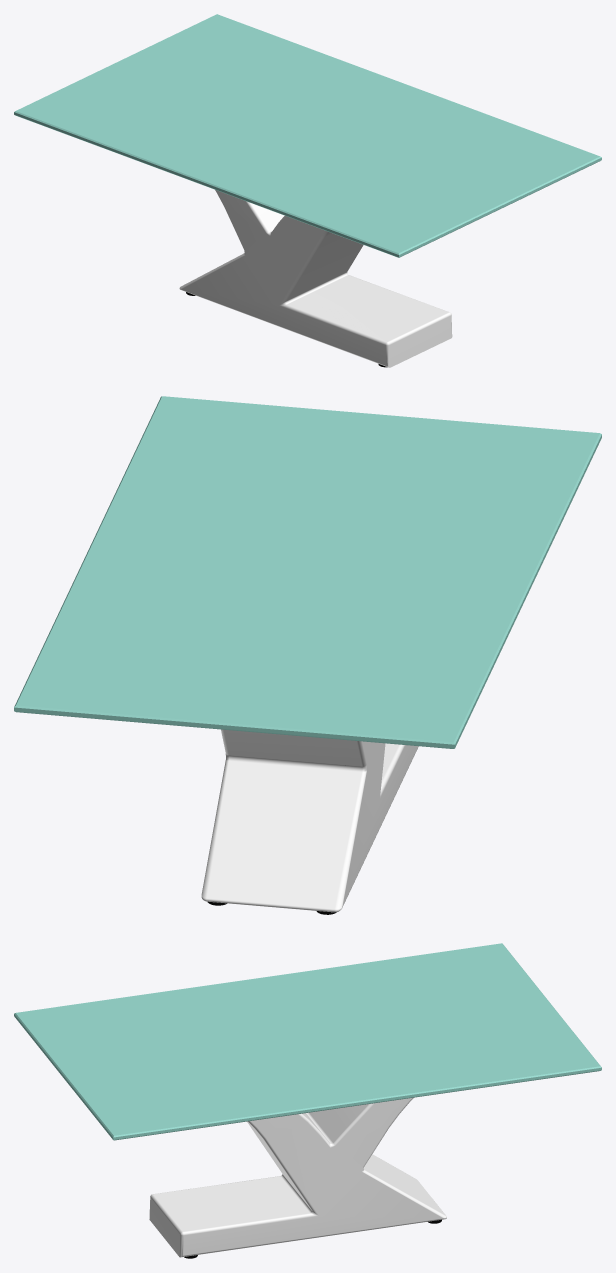
The model's file is Table.fbx.
3 views of the same model, one above another, from view 1: azimuth 30°, elevation 25°; view 2: azimuth 150°, elevation 25°; view 3: azimuth 270°, elevation 25° (orthographic). The views are drawn at different scales.
Parts seen in each view (by area): view 1: Glass; view 2: Glass; view 3: Glass.
Boxes of the visible parts, x1=… form: Glass: x1=14, y1=14, x2=601, y2=367; Glass: x1=14, y1=396, x2=601, y2=914; Glass: x1=14, y1=943, x2=601, y2=1258.
Bounding box in the file's own units: 0.8175 × 0.3574 × 1.05.
